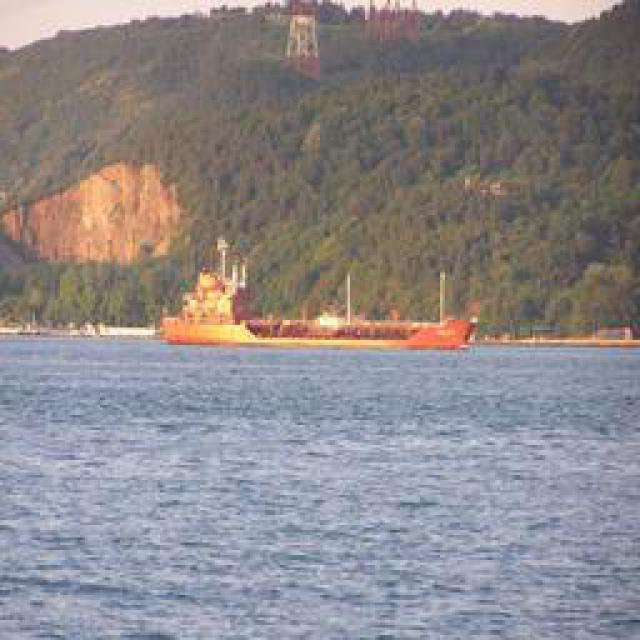Ship: (157, 236, 490, 349)
